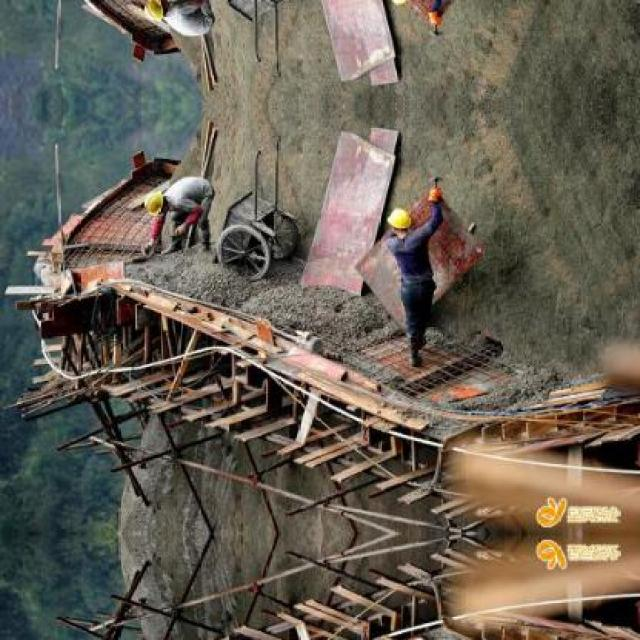helmet: (384, 205, 413, 238), (138, 190, 172, 218), (138, 0, 174, 23), (383, 0, 414, 8)
